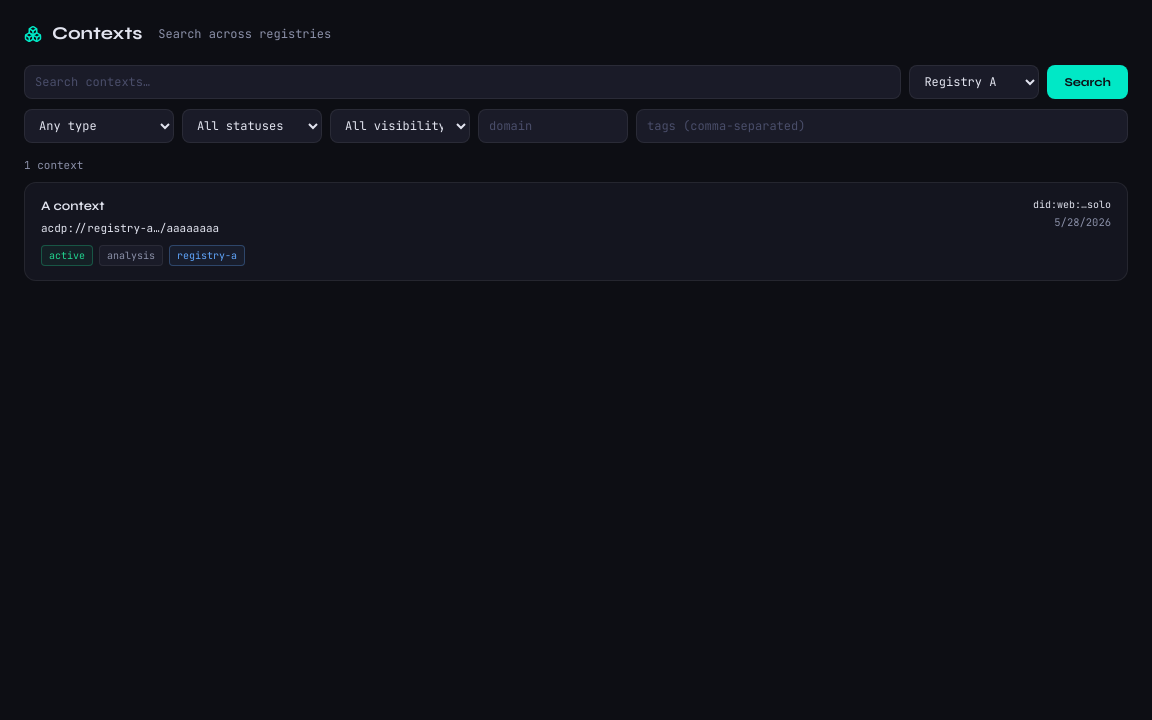
Test case: CRITERION 5: /contexts and the run inspector render the same message › the 404 and error branches never both render › DISCRIMINATES: a binding failure renders the error panel and NO EmptyState
The width and height of the screenshot is (1152, 720).
What coordinates should you click on to do the following:
click the text "A context"
I would click on:
 (73, 206)
Its box is [41,198,105,214].
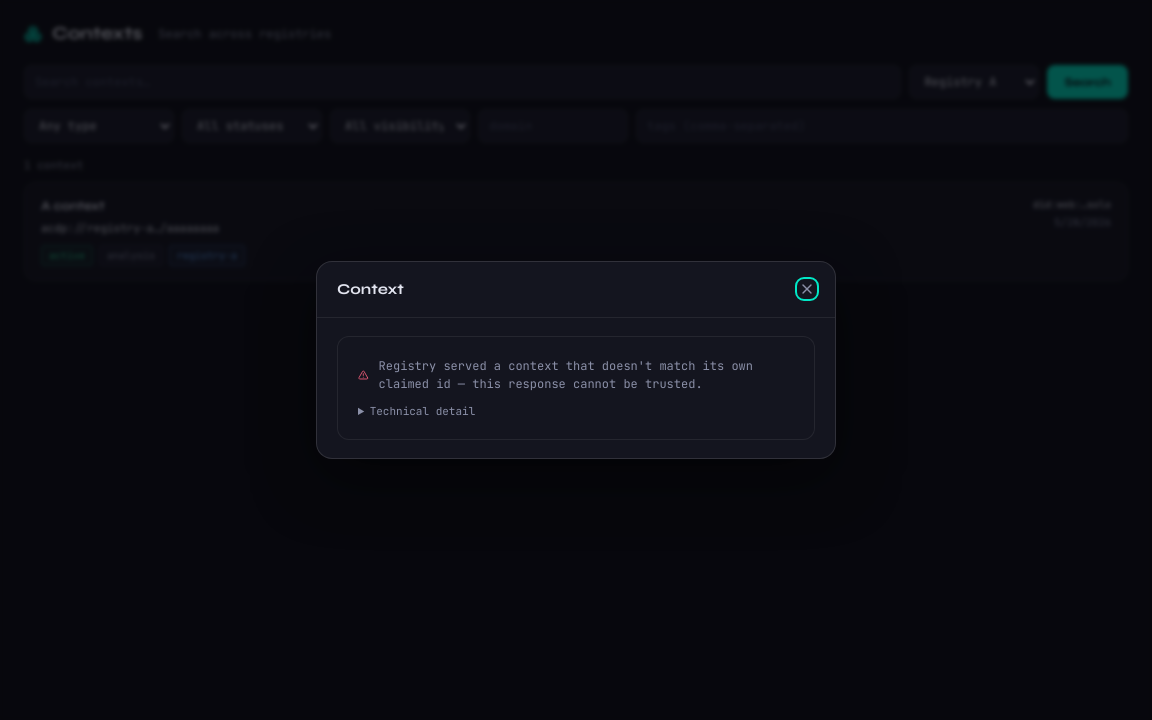
Check: the text "Registry served a context that doesn't match its own claimed id — this response cannot be trusted." is shown, box [379,358,753,392]
Check: the dialog shows "Registry served a context that doesn't match its own claimed id — this response cannot be trusted.", box [379,358,753,392]
